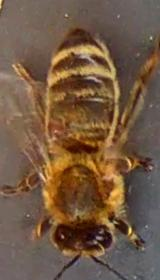varroa_mite: (36, 114, 72, 142)
